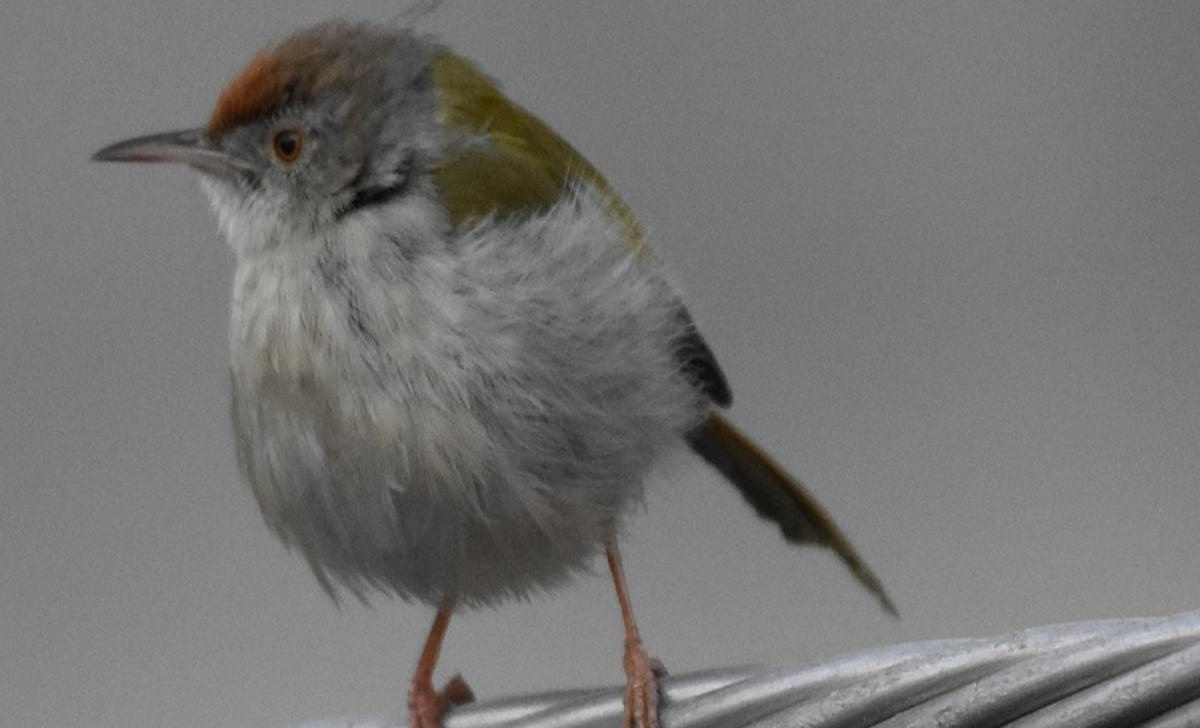tailorbird: (131, 32, 937, 696)
